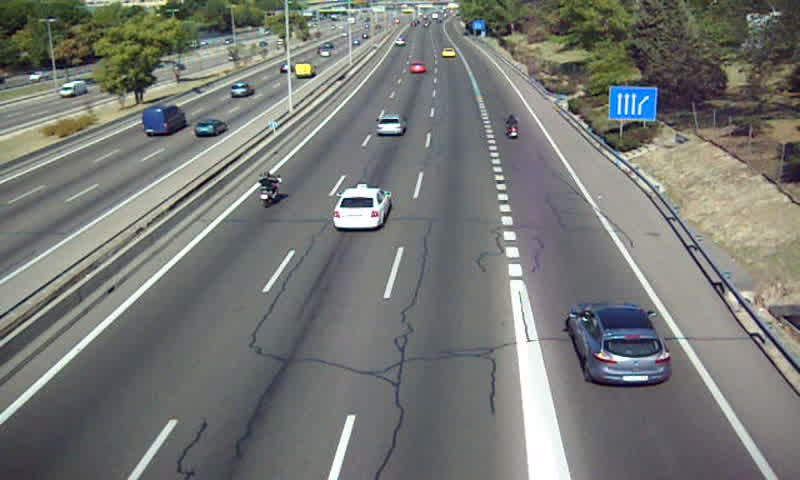car: (569, 305, 670, 384), (333, 188, 391, 230), (374, 114, 406, 137), (409, 60, 427, 75), (441, 47, 457, 58)
motorcycle: (257, 172, 281, 207), (505, 113, 521, 140)
